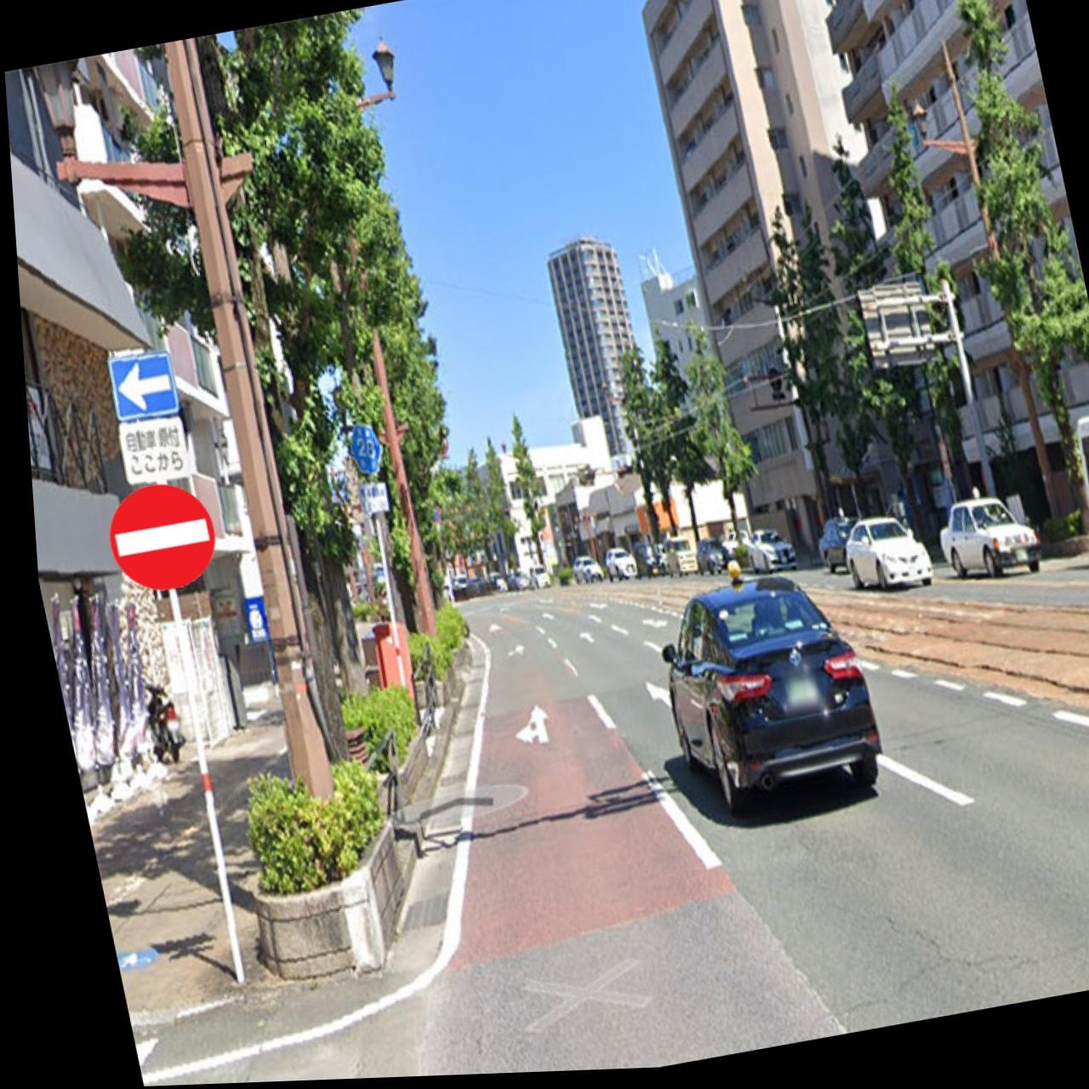barrier: (94, 469, 230, 601)
